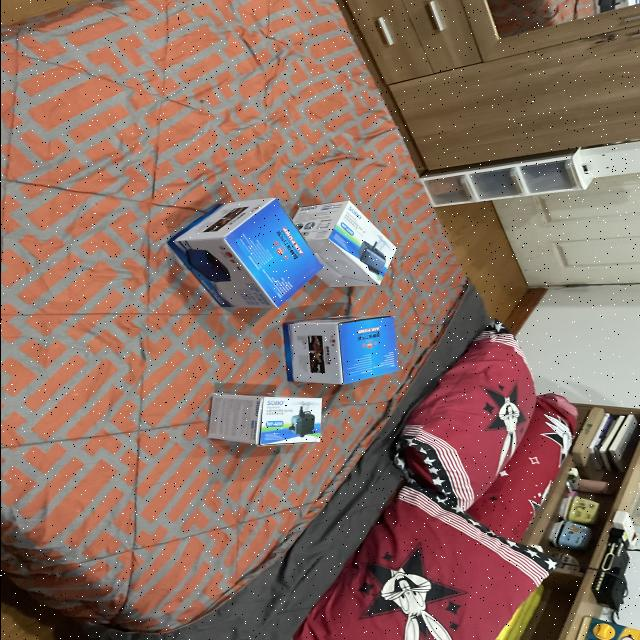SOBO_WP_4200: (272, 189, 402, 303), (198, 388, 330, 456)
YAMANO_LPP_20: (167, 189, 329, 325), (270, 306, 412, 406)
